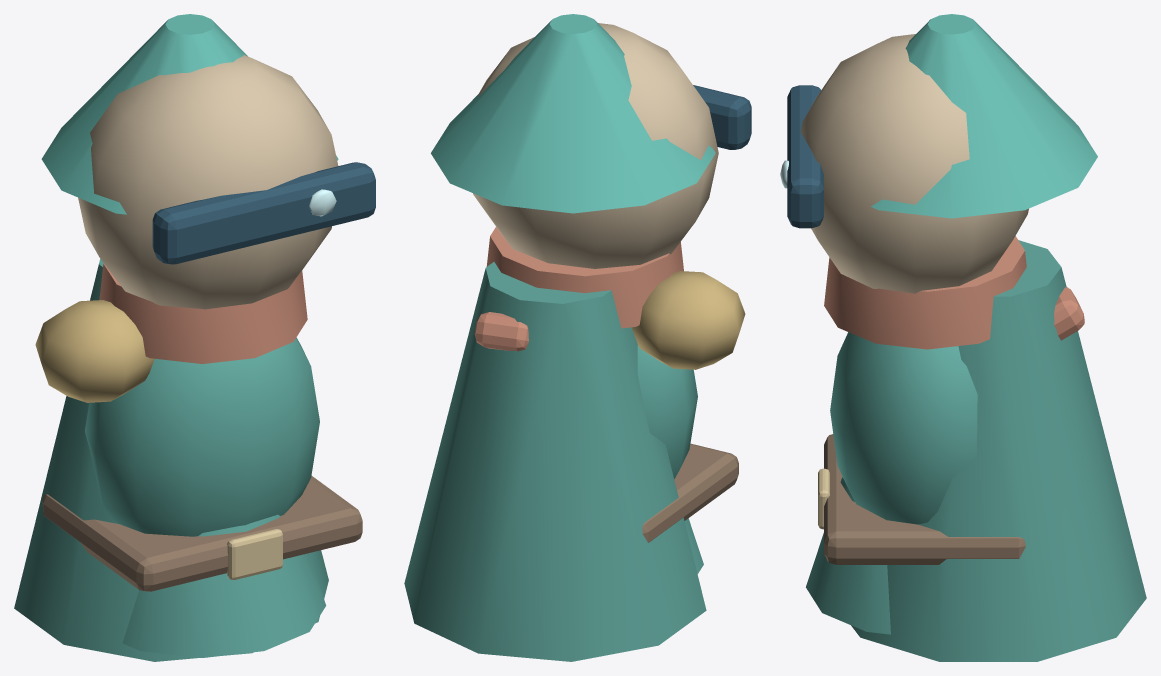
File: courier_body.glb
3 renders of one model, left to right at view 1: azimuth 30°, elevation 25°; view 2: azimuth 150°, elevation 25°; view 3: azimuth 270°, elevation 25°, orthographic. The views are drawn at different scales.
Visible parts, largest first — view 1: courier_body_Palette, courier_body_Glow; view 2: courier_body_Palette; view 3: courier_body_Palette.
Part boxes in pixels (x1,y1,x2,y2): courier_body_Palette: [14, 14, 375, 661]; courier_body_Glow: [309, 189, 336, 216]; courier_body_Palette: [404, 14, 751, 661]; courier_body_Palette: [787, 14, 1146, 661].
Size of the model in its own units: 0.2736 by 0.52 by 0.301.
